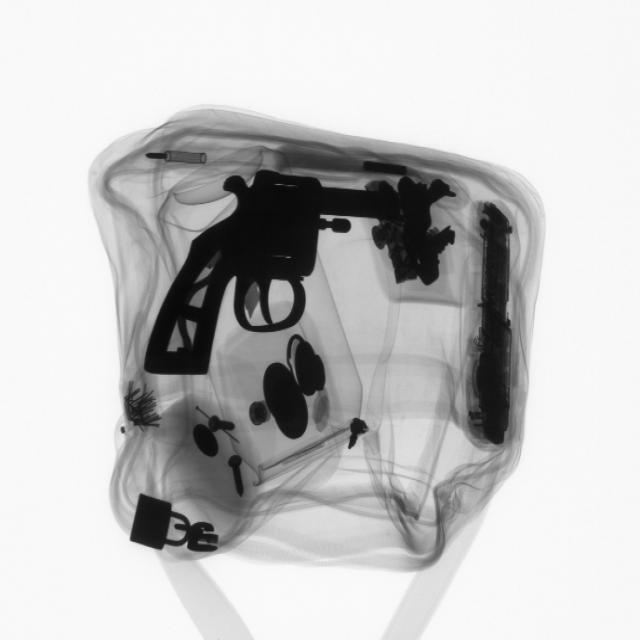GUN: (147, 171, 401, 391)
SCREW: (212, 450, 266, 507), (195, 405, 249, 443)
